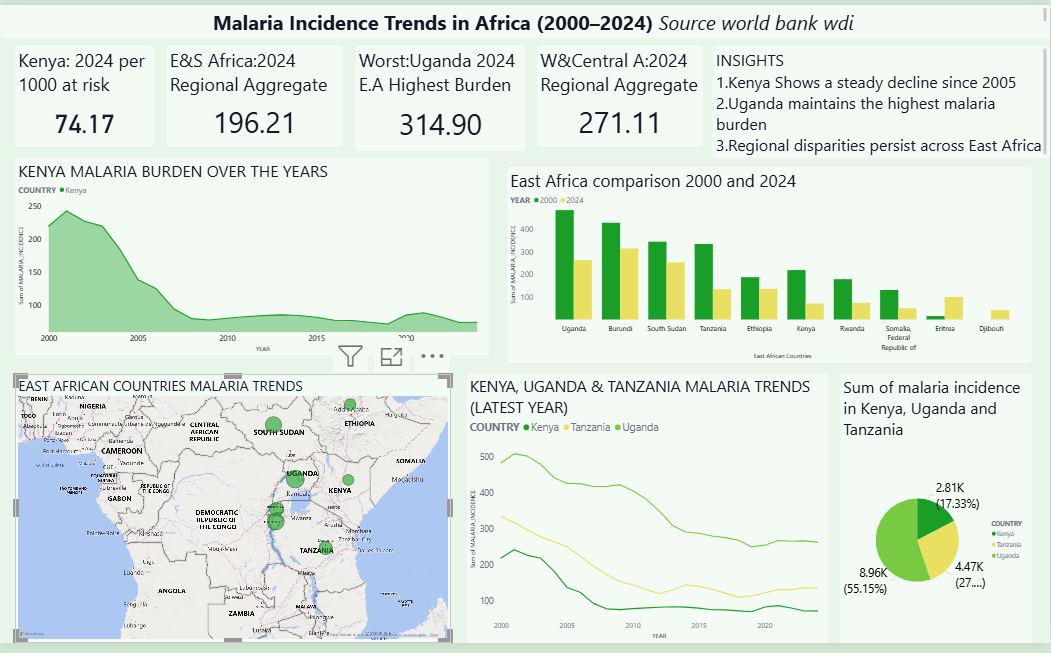

What the dashboard file says about the page in this screenshot:
{"tool":"powerbi","page":{"name":"Page 1","canvas":[2800,1700],"ordinal":0},"visuals":[{"type":"stackedAreaChart","title":"KENYA MALARIA BURDEN OVER THE YEARS","fields":{"Category":["WB_WDI_SH_MLR_INCD_P3.YEAR"],"Y":["Sum(WB_WDI_SH_MLR_INCD_P3.MALARIA_INCIDENCE)"],"Series":["WB_WDI_SH_MLR_INCD_P3.REF_AREA_LABEL"]},"box":[40,406.7,1263.3,526.7],"z":0},{"type":"lineChart","title":"KENYA, UGANDA & TANZANIA MALARIA TRENDS (LATEST YEAR)","fields":{"Category":["WB_WDI_SH_MLR_INCD_P3.YEAR"],"Y":["Sum(WB_WDI_SH_MLR_INCD_P3.MALARIA_INCIDENCE)"],"Series":["WB_WDI_SH_MLR_INCD_P3.REF_AREA_LABEL"]},"box":[1243.3,983.3,966.7,716.7],"z":1000},{"type":"card","title":"       Kenya: 2024 per 1000 at risk","fields":{"Values":["Sum(WB_WDI_SH_MLR_INCD_P3.MALARIA_INCIDENCE)"]},"box":[40,106.7,370,270],"z":2000},{"type":"clusteredColumnChart","title":"East Africa comparison 2000 and 2024","fields":{"Category":["WB_WDI_SH_MLR_INCD_P3.REF_AREA_LABEL"],"Y":["Sum(WB_WDI_SH_MLR_INCD_P3.MALARIA_INCIDENCE)"],"Series":["WB_WDI_SH_MLR_INCD_P3.YEAR"]},"box":[1353.3,406.7,1400,546.7],"z":3000},{"type":"card","title":"E&S Africa:2024 Regional Aggregate","fields":{"Values":["Sum(WB_WDI_SH_MLR_INCD_P3.MALARIA_INCIDENCE)"]},"box":[443.3,106.7,470,270],"z":4000},{"type":"card","title":"Worst:Burundi 2024 E.A Highest Burden","fields":{"Values":["Sum(WB_WDI_SH_MLR_INCD_P3.MALARIA_INCIDENCE)"]},"box":[946.7,106.7,453.3,280],"z":5000},{"type":"card","title":"W&Central A:2024 Regional Aggregate","fields":{"Values":["Sum(WB_WDI_SH_MLR_INCD_P3.MALARIA_INCIDENCE)"]},"box":[1440,106.7,443.3,270],"z":6000},{"type":"textbox","box":[0,0,2800,86.7],"z":7000},{"type":"map","title":"EAST AFRICAN COUNTRIES MALARIA TRENDS","fields":{"Size":["Sum(WB_WDI_SH_MLR_INCD_P3.MALARIA_INCIDENCE)"],"Category":["WB_WDI_SH_MLR_INCD_P3.REF_AREA_LABEL"]},"box":[40,983.3,1163.3,716.7],"z":7001},{"type":"slicer","fields":{"Values":["WB_WDI_SH_MLR_INCD_P3.REF_AREA_LABEL"]},"box":[2366.7,106.7,386.7,270],"z":7002},{"type":"kpi","fields":{"Indicator":["Sum(WB_WDI_SH_MLR_INCD_P3.MALARIA_INCIDENCE)"],"TrendLine":["WB_WDI_SH_MLR_INCD_P3.YEAR"]},"box":[1923.3,106.7,403.3,270],"z":7003},{"type":"pieChart","title":"Sum of malaria incidence in Kenya, Uganda and Tanzania","fields":{"Series":["WB_WDI_SH_MLR_INCD_P3.COUNTRY"],"Y":["Sum(WB_WDI_SH_MLR_INCD_P3.MALARIA_INCIDENCE)"]},"box":[2240,983.3,513.3,716.7],"z":7004}]}

Visuals, with their boxes in screenshot pixels (x1, y1, x2, y2), scaled from the page's 2800x1700 canvas onto the 1051x653 screenshot:
"KENYA MALARIA BURDEN OVER THE YEARS" stackedAreaChart: x1=15, y1=156, x2=489, y2=359
"KENYA, UGANDA & TANZANIA MALARIA TRENDS (LATEST YEAR)" lineChart: x1=467, y1=378, x2=830, y2=652
"       Kenya: 2024 per 1000 at risk" card: x1=15, y1=41, x2=154, y2=145
"East Africa comparison 2000 and 2024" clusteredColumnChart: x1=508, y1=156, x2=1033, y2=366
"E&S Africa:2024 Regional Aggregate" card: x1=166, y1=41, x2=343, y2=145
"Worst:Burundi 2024 E.A Highest Burden" card: x1=355, y1=41, x2=526, y2=149
"W&Central A:2024 Regional Aggregate" card: x1=541, y1=41, x2=707, y2=145
textbox: x1=0, y1=0, x2=1050, y2=33
"EAST AFRICAN COUNTRIES MALARIA TRENDS" map: x1=15, y1=378, x2=452, y2=652
slicer - WB_WDI_SH_MLR_INCD_P3.REF_AREA_LABEL: x1=888, y1=41, x2=1034, y2=145
kpi - Sum(WB_WDI_SH_MLR_INCD_P3.MALARIA_INCIDENCE) x WB_WDI_SH_MLR_INCD_P3.YEAR: x1=722, y1=41, x2=873, y2=145
"Sum of malaria incidence in Kenya, Uganda and Tanzania" pieChart: x1=841, y1=378, x2=1033, y2=652
